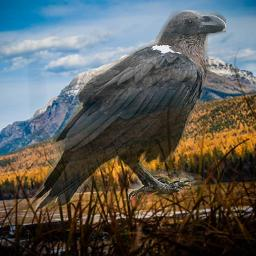Crow: (28, 10, 226, 212)
